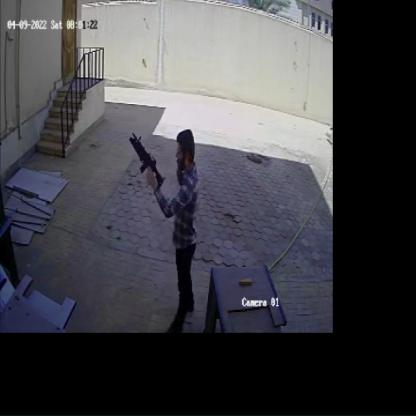handgun: (128, 127, 164, 198)
